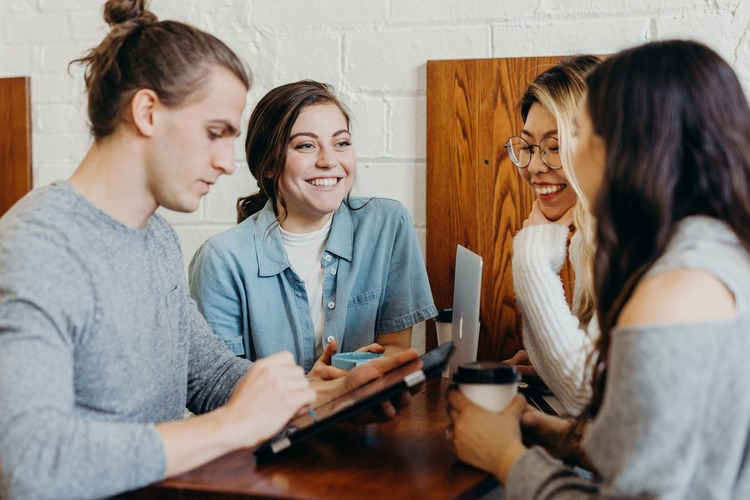without_mask: (171, 84, 241, 214), (280, 123, 356, 215), (517, 120, 577, 218)
